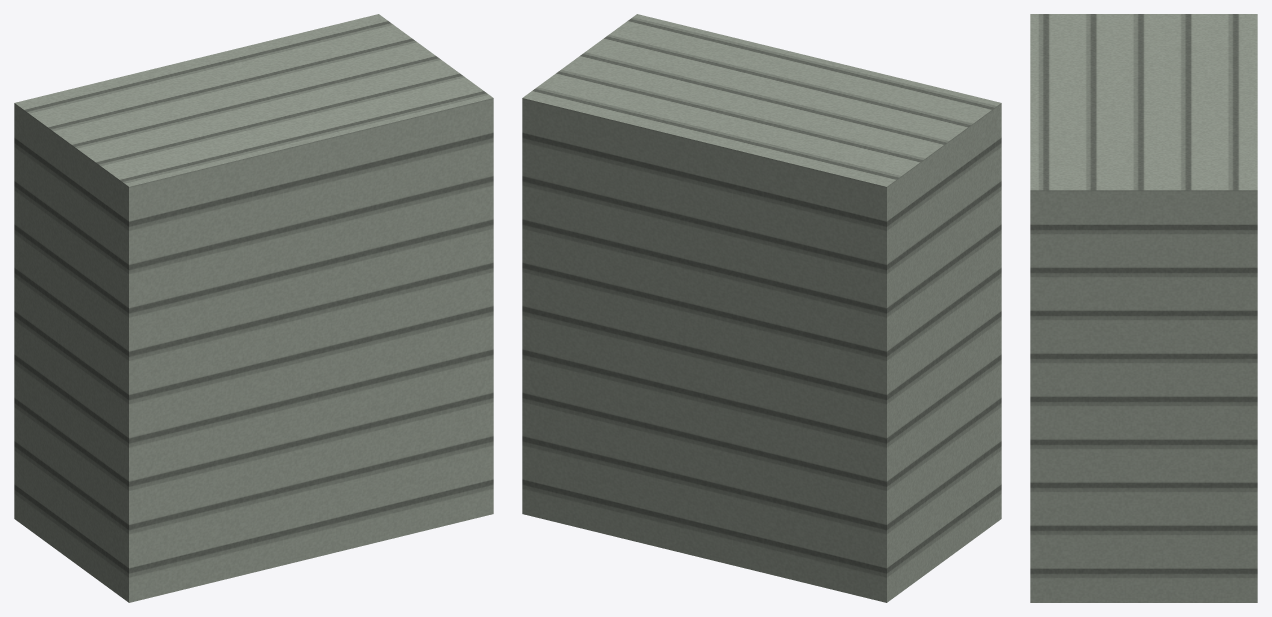
File: rolltop_desk.glb
3 views of the same model, side by side, from view 1: azimuth 30°, elevation 25°; view 2: azimuth 150°, elevation 25°; view 3: azimuth 270°, elevation 25° (orthographic).
Parts seen in each view (by area): view 1: rolltop_desk-col; view 2: rolltop_desk-col; view 3: rolltop_desk-col.
Part boxes in pixels (x1,y1,x2,y2): rolltop_desk-col: [14, 14, 493, 602]; rolltop_desk-col: [522, 14, 1001, 602]; rolltop_desk-col: [1030, 14, 1257, 602].
Size of the model in its own units: 1.1 by 1.2 by 0.6.
1 material, 1 textured.
